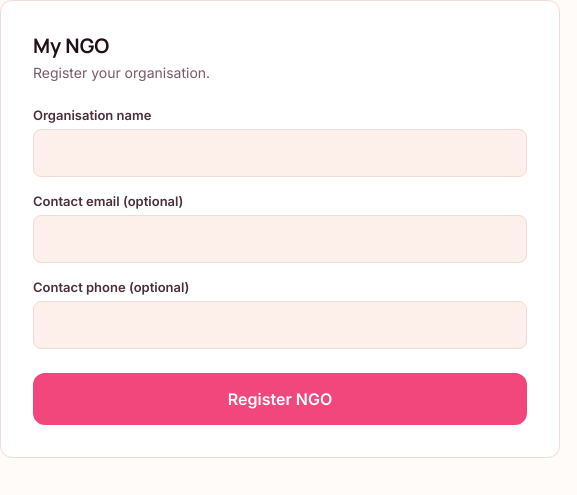
Test: MyNgoForm › rejects an empty organisation name
Click the button named "Register NGO" at (280, 399), box x1=33 y1=373 x2=527 y2=425
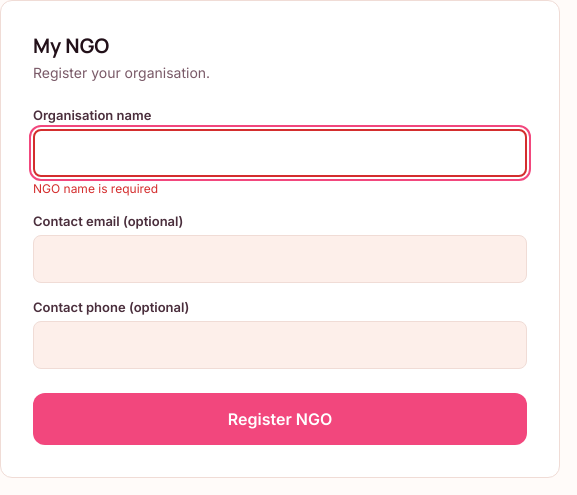
Result: the text "NGO name is required" is shown at x1=33 y1=181 x2=158 y2=196
